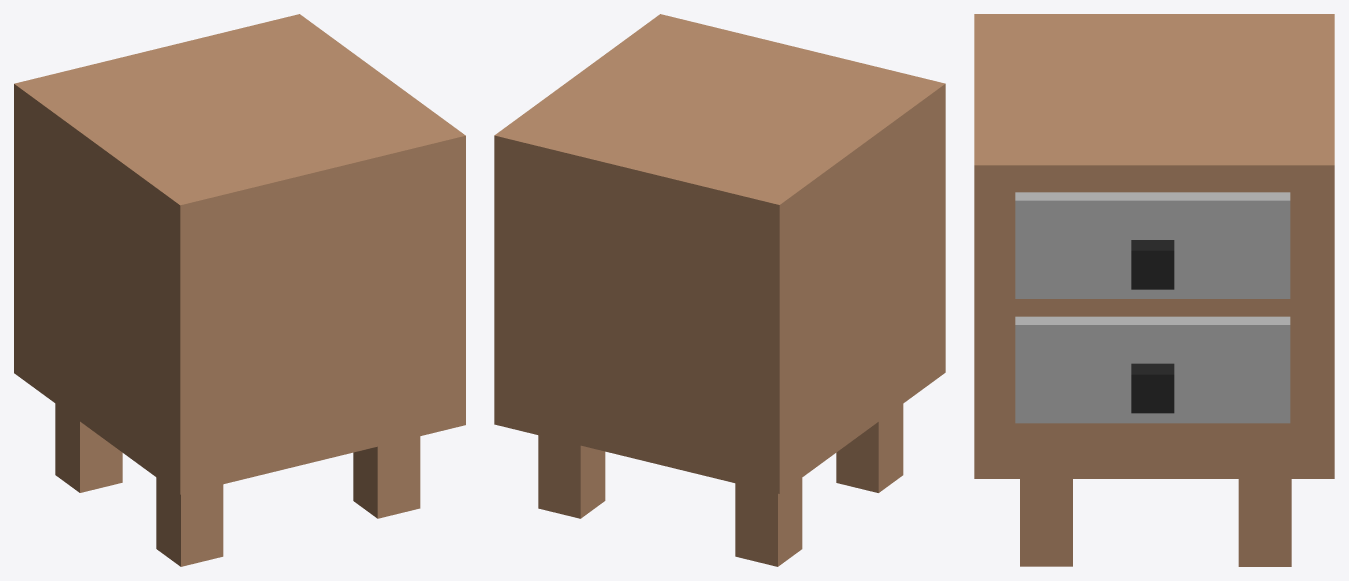
Rendered from nightstand.fbx.
3 renders of one model, left to right at view 1: azimuth 30°, elevation 25°; view 2: azimuth 150°, elevation 25°; view 3: azimuth 270°, elevation 25°, orthographic. The views are drawn at different scales.
Parts seen in each view (by area): view 1: body, leggg, legggg, leg; view 2: body, leg, legg, leggg; view 3: body, drawer.001, drawer, legg, legggg, Cube.003, Cube.
Boxes of the visible parts, x1,y1,x2,y2 form: body: (14,14,465,494); leggg: (156,477,223,566); legggg: (353,436,420,518); leg: (55,403,122,492); body: (494,14,945,493); leg: (735,478,802,566); legg: (538,435,605,518); leggg: (836,404,903,492); body: (974,14,1334,478); drawer.001: (1015,316,1290,423); drawer: (1015,192,1290,298); legg: (1238,479,1291,566); legggg: (1020,479,1072,566); Cube.003: (1131,363,1174,413); Cube: (1131,240,1174,289).
Size of the model in its own units: 301 by 333 by 262.
